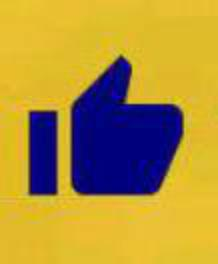ImgButton: (1, 1, 217, 263)
